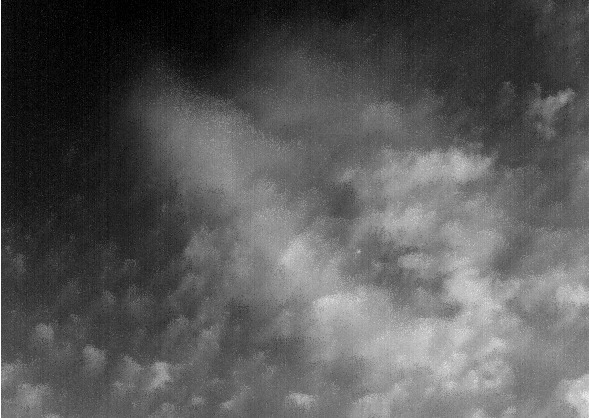dim target: (356, 248, 362, 255)
